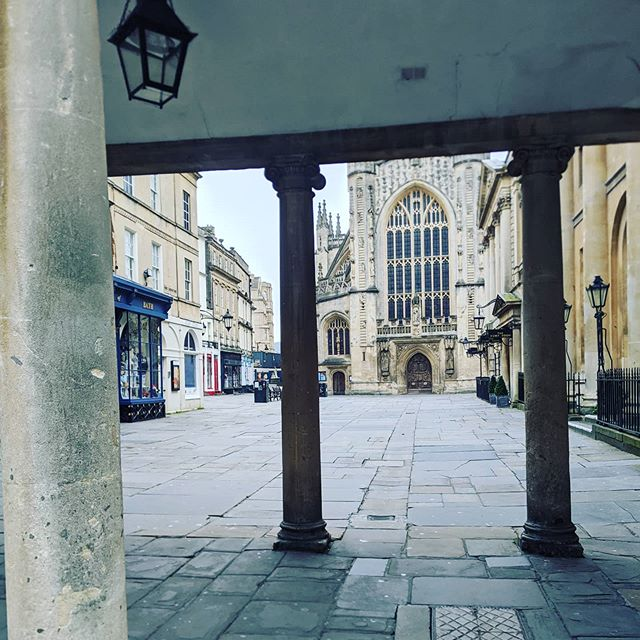building: (314, 147, 514, 390), (98, 162, 207, 408), (200, 250, 277, 389)
collumn: (500, 142, 594, 562), (264, 160, 341, 555)
